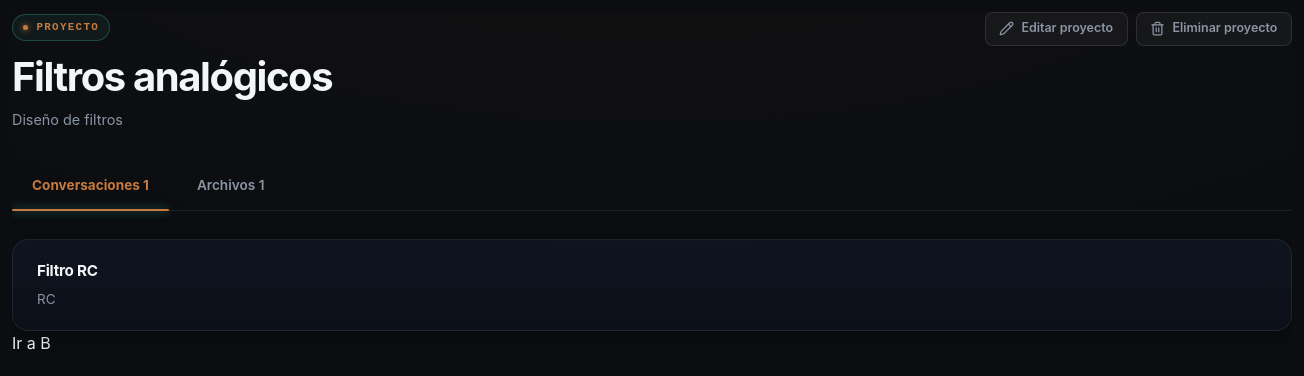
isolates file cache and selected tab when navigating between project params
This screenshot has width=1304, height=376.
Click the tab "Archivos 1". click: (231, 186)
box: [177, 163, 284, 208]
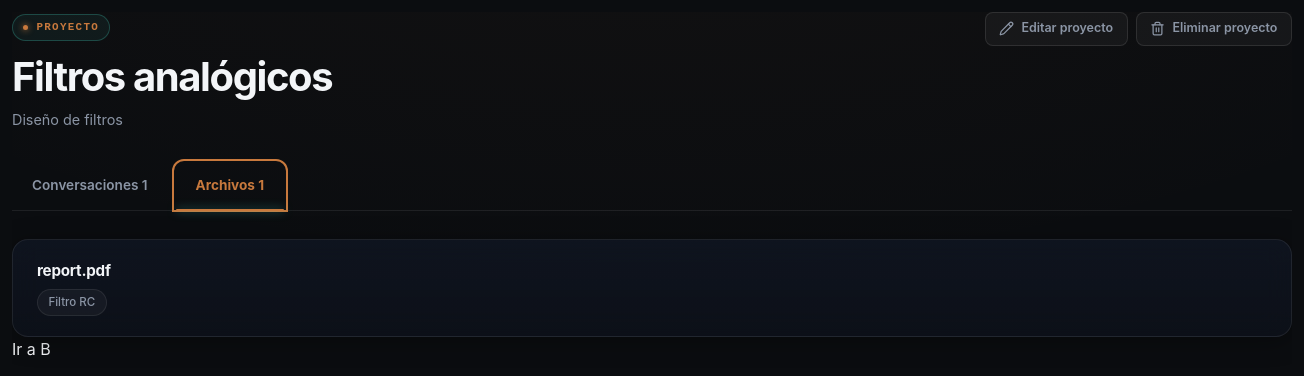
Now the link "report.pdf" is shown, box [37, 261, 111, 280]
Click the link "Ir a B". click: (31, 349)
box: [12, 339, 51, 359]
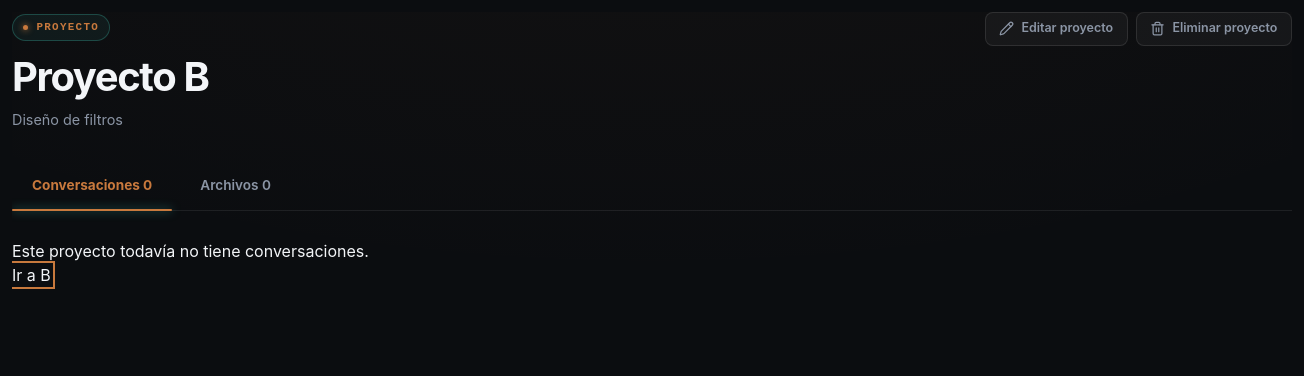
Now the heading "Proyecto B" is shown, box [12, 54, 208, 100]
Now the link "report.pdf" is gone
